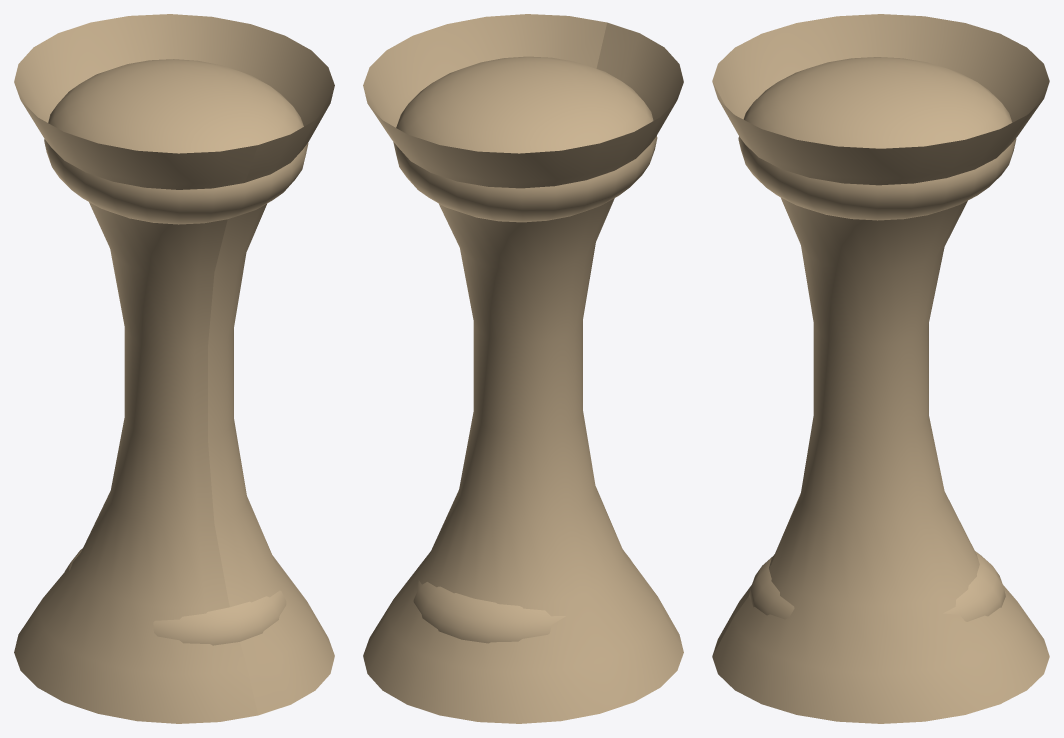
File: left_digit_2_middle.glb
3 renders of one model, left to right at view 1: azimuth 30°, elevation 25°; view 2: azimuth 150°, elevation 25°; view 3: azimuth 270°, elevation 25°, orthographic.
Visible parts, largest first — view 1: left_digit_2_middle:diaphysis, left_digit_2_middle:proximal-envelope, left_digit_2_middle:distal-envelope; view 2: left_digit_2_middle:diaphysis, left_digit_2_middle:proximal-envelope, left_digit_2_middle:distal-envelope; view 3: left_digit_2_middle:diaphysis, left_digit_2_middle:proximal-envelope, left_digit_2_middle:distal-envelope.
Boxes of the visible parts, x1,y1,x2,y2 form: left_digit_2_middle:diaphysis: [14, 14, 334, 723]; left_digit_2_middle:proximal-envelope: [44, 59, 308, 224]; left_digit_2_middle:distal-envelope: [64, 548, 286, 645]; left_digit_2_middle:diaphysis: [363, 14, 683, 723]; left_digit_2_middle:proximal-envelope: [393, 56, 657, 222]; left_digit_2_middle:distal-envelope: [413, 555, 631, 643]; left_digit_2_middle:diaphysis: [712, 14, 1049, 723]; left_digit_2_middle:proximal-envelope: [738, 57, 1016, 220]; left_digit_2_middle:distal-envelope: [749, 551, 1005, 621].
Bounding box in the file's own units: 0.0799 × 0.1598 × 0.0846.
